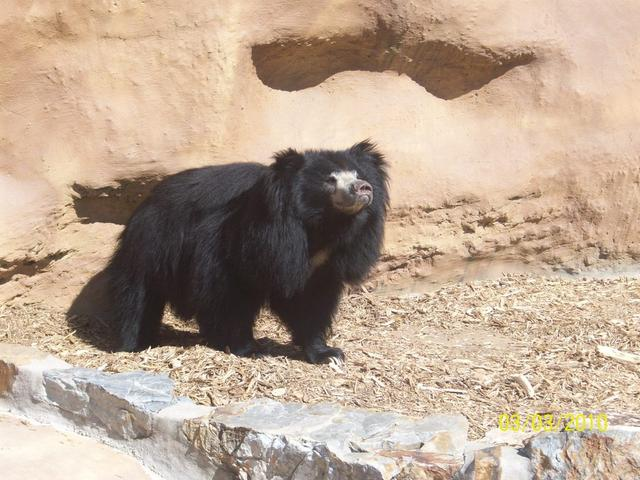Bear: (88, 144, 403, 367)
